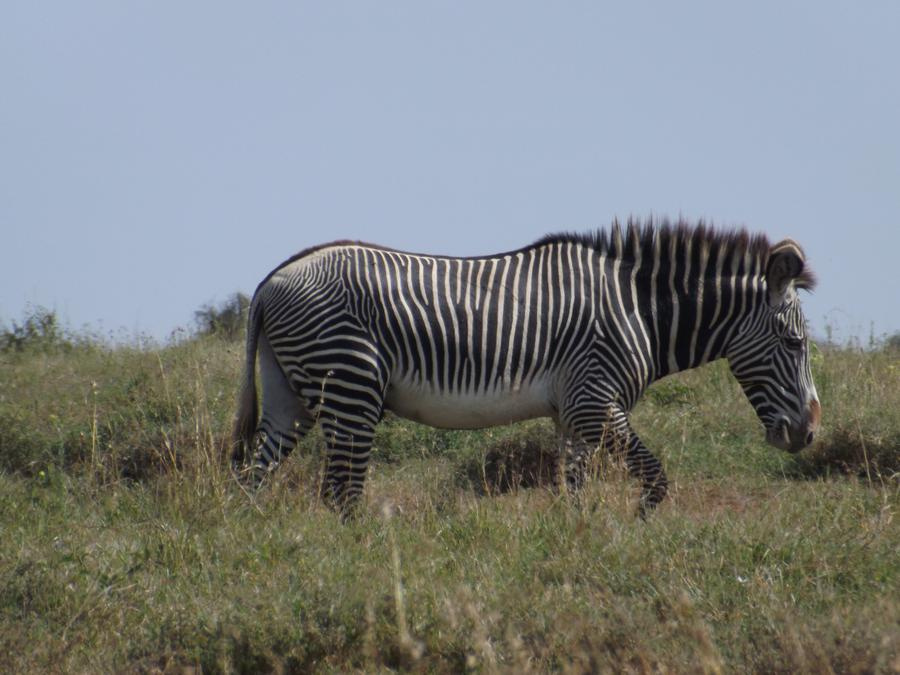zebra_grevys: (234, 215, 635, 417)
